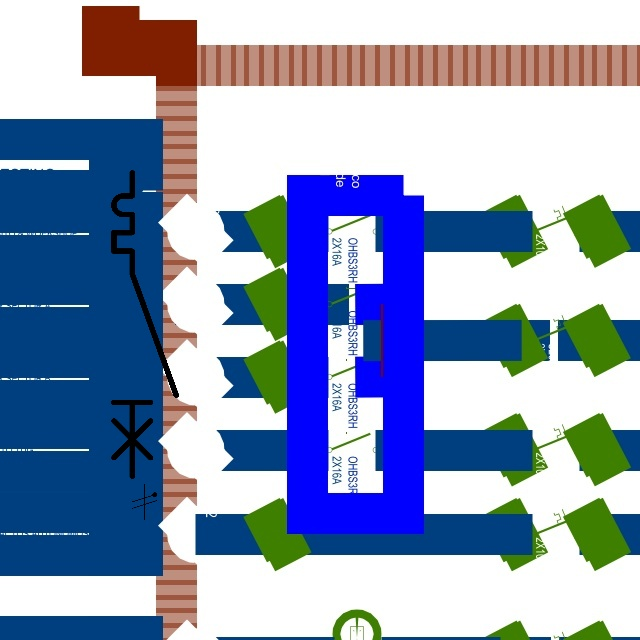interruptor_termomagnetico: (106, 165, 184, 484)
